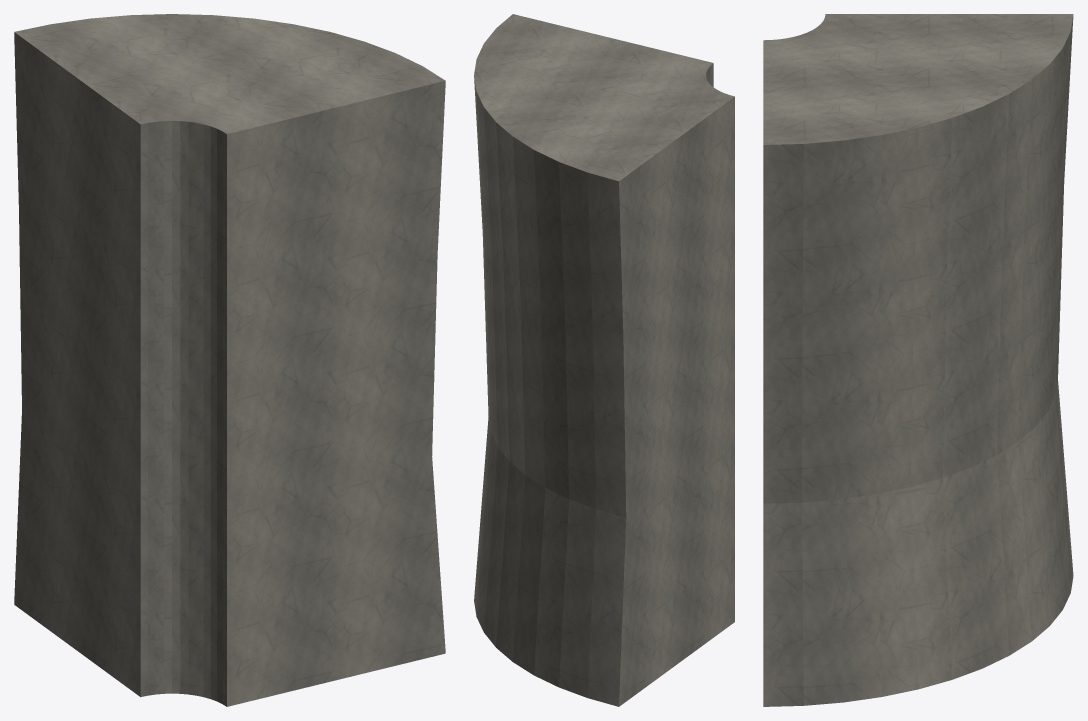
Rendered from Furn_Cliff_Corner.fbx.
3 renders of one model, left to right at view 1: azimuth 30°, elevation 25°; view 2: azimuth 150°, elevation 25°; view 3: azimuth 270°, elevation 25°, orthographic. The views are drawn at different scales.
Visible parts, largest first — view 1: Furn_Cliff_Corner_Mesh; view 2: Furn_Cliff_Corner_Mesh; view 3: Furn_Cliff_Corner_Mesh.
Boxes of the visible parts, x1,y1,x2,y2 form: Furn_Cliff_Corner_Mesh: [14, 14, 445, 706]; Furn_Cliff_Corner_Mesh: [474, 14, 734, 706]; Furn_Cliff_Corner_Mesh: [763, 14, 1073, 706].
Size of the model in its own units: 10 by 20 by 10.
